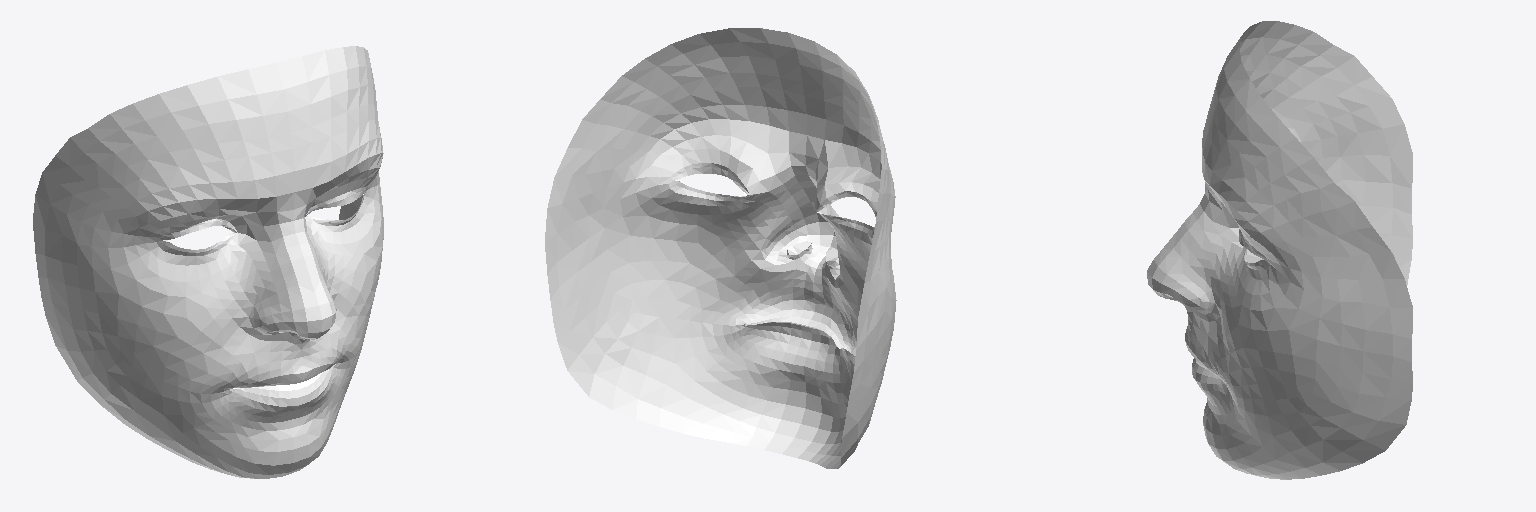
The model's file is eyeLookDown_L.obj.
3 views of the same model, side by side, from view 1: azimuth 30°, elevation 25°; view 2: azimuth 150°, elevation 25°; view 3: azimuth 270°, elevation 25° (orthographic).
Parts seen in each view (by area): view 1: default; view 2: default; view 3: default.
Part boxes in pixels (x1,y1,x2,y2): default: (33,46,383,478); default: (545,28,896,468); default: (1147,21,1412,479).
Bounding box in the file's own units: 0.1447 × 0.182 × 0.1055.